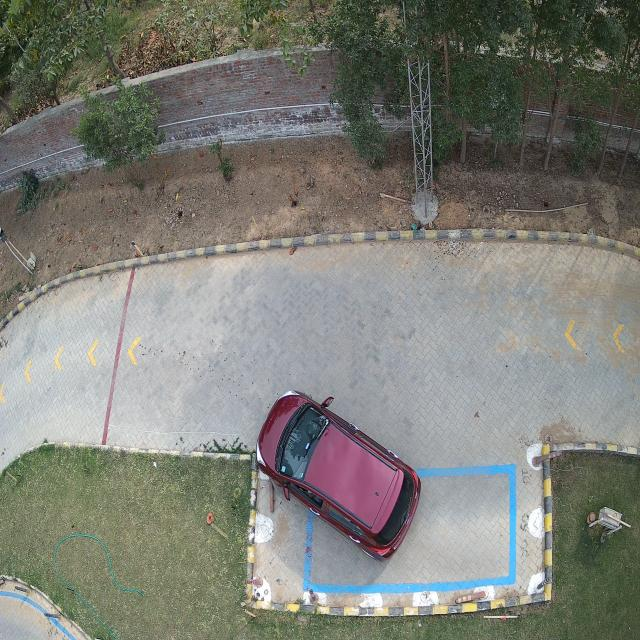car: (257, 393, 421, 558)
